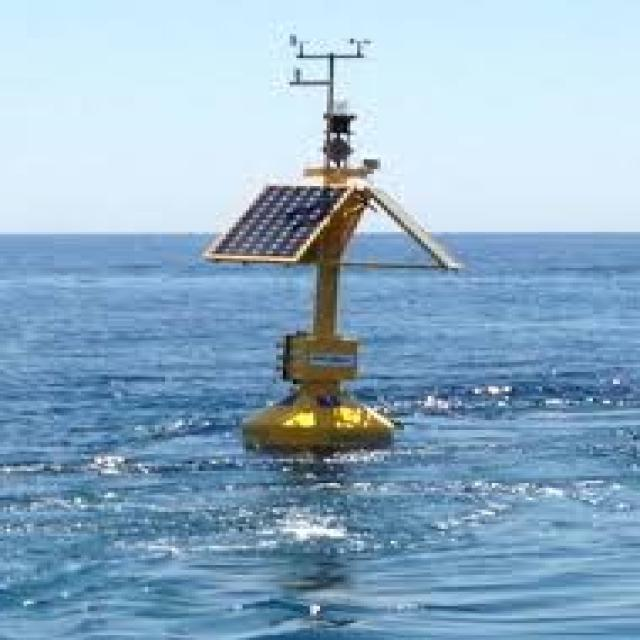marque: (156, 1, 473, 479)
